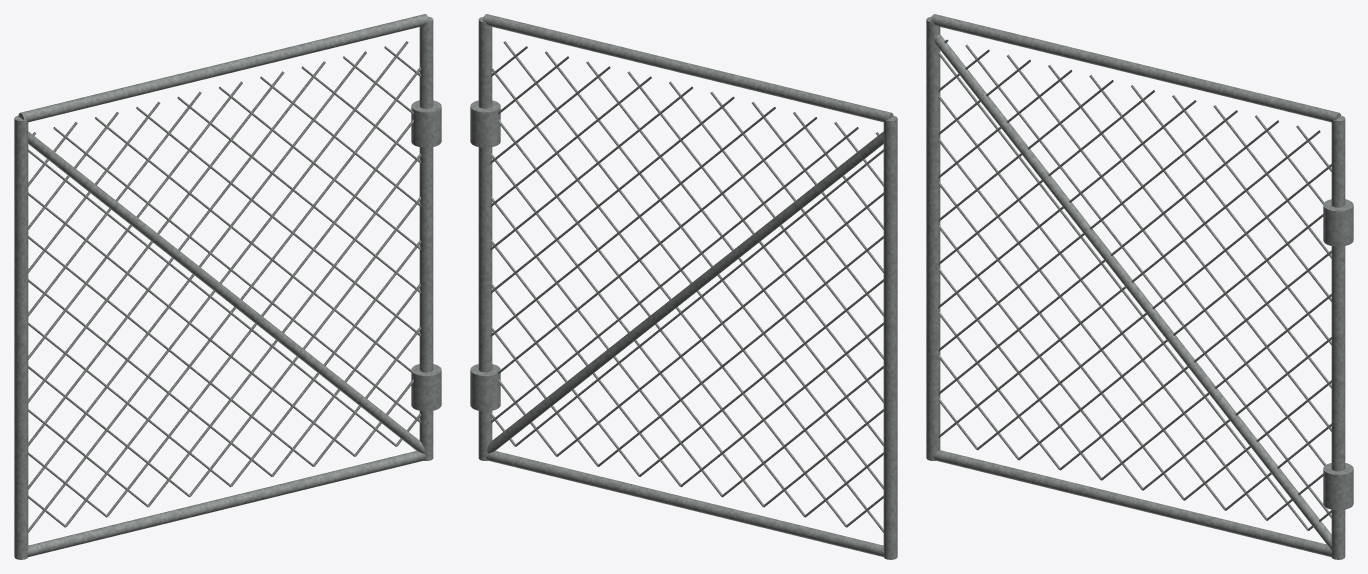
Rendered from SM_Substation_Gate_R.glb.
3 renders of one model, left to right at view 1: azimuth 30°, elevation 25°; view 2: azimuth 150°, elevation 25°; view 3: azimuth 330°, elevation 25°, orthographic.
Parts seen in each view (by area): view 1: SM_Substation_Gate_R; view 2: SM_Substation_Gate_R; view 3: SM_Substation_Gate_R.
Boxes of the visible parts, box(x1,y1,x2,y2) form: SM_Substation_Gate_R: box(14, 14, 441, 559); SM_Substation_Gate_R: box(470, 14, 897, 559); SM_Substation_Gate_R: box(926, 14, 1353, 559).
Bounding box in the file's own units: 2.26 × 2.26 × 0.14.
Materials: 1 (1 with a texture image).
